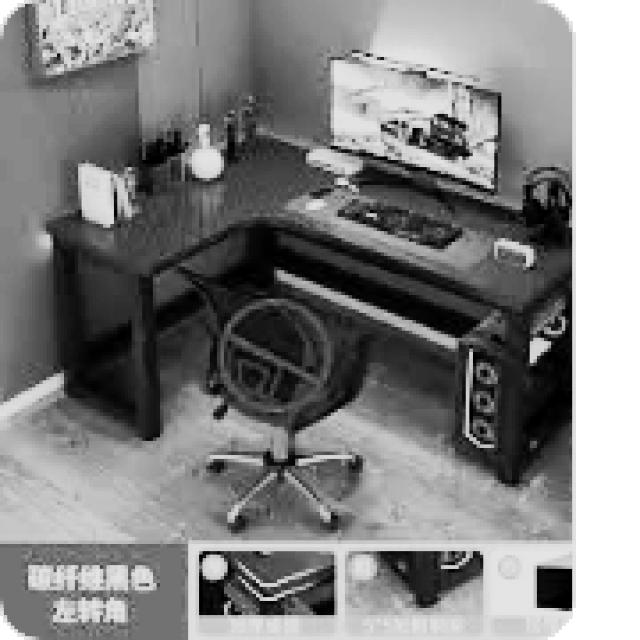book: (174, 260, 366, 530)
table: (43, 128, 569, 484)
